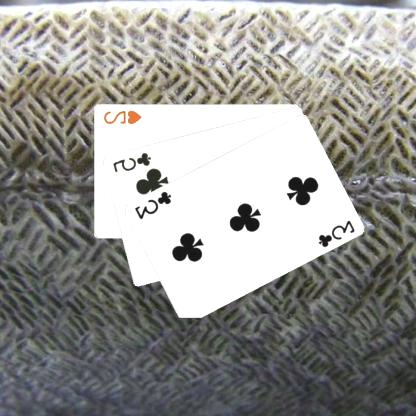2H: (102, 107, 144, 125)
3C: (133, 188, 174, 220), (317, 217, 358, 249)
5C: (111, 150, 154, 174)
